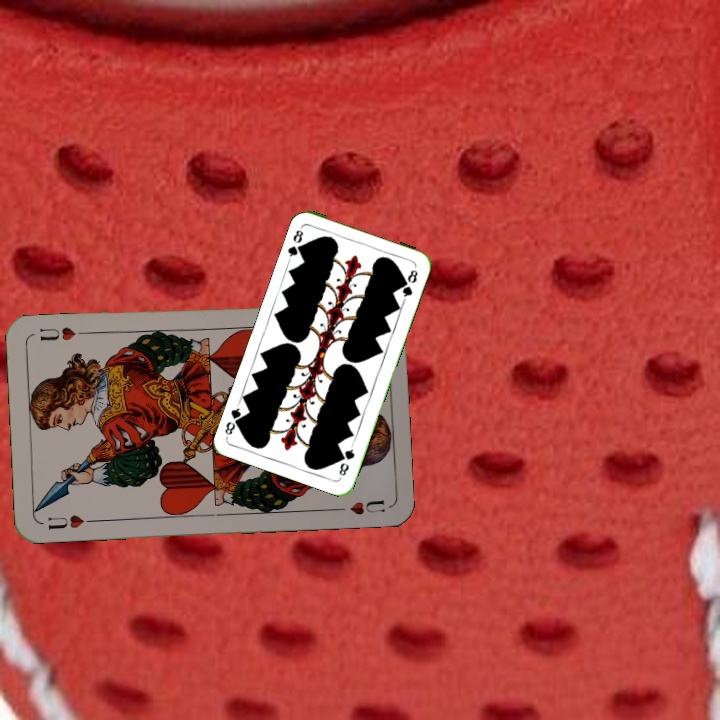G8: (283, 226, 307, 262), (335, 441, 357, 479)
HU: (44, 511, 98, 532)
